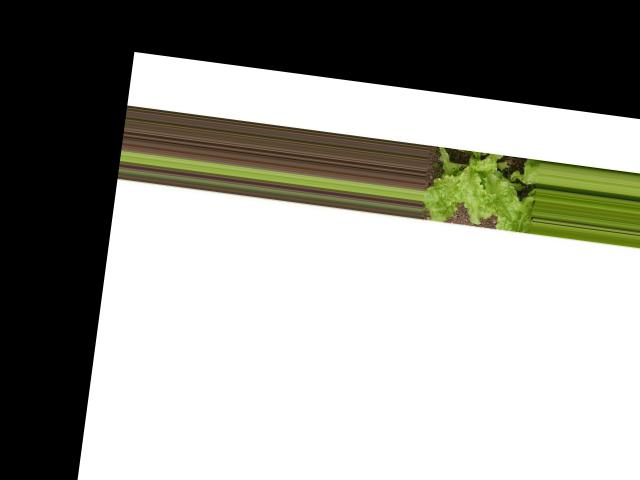lettuce: (422, 140, 541, 230)
